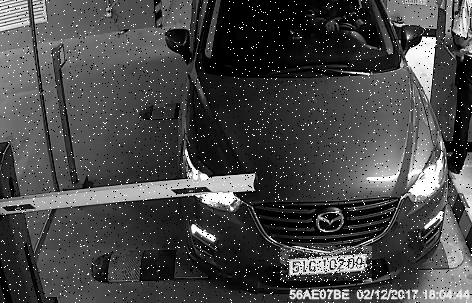License-plate: (281, 248, 373, 284)
